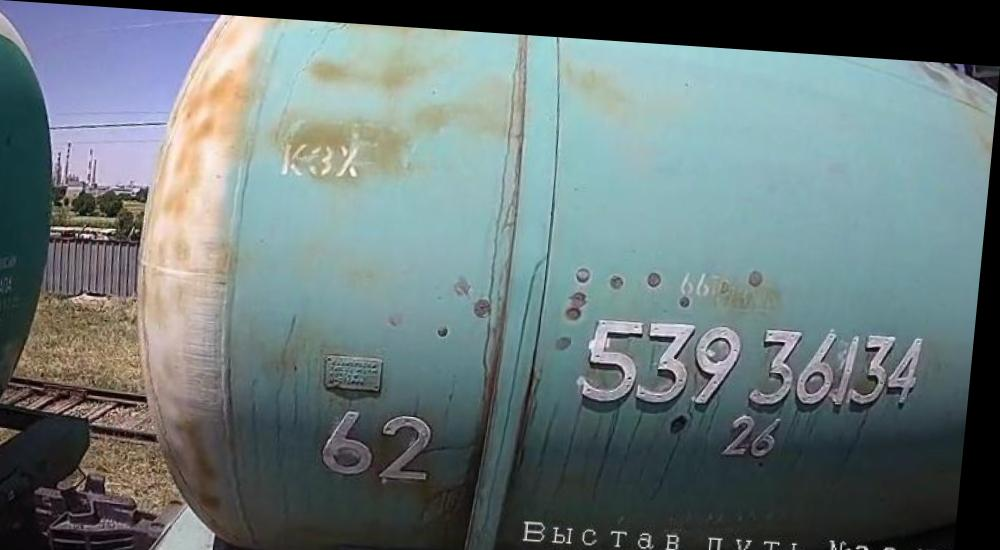Wagon-number: (579, 305, 938, 419)
